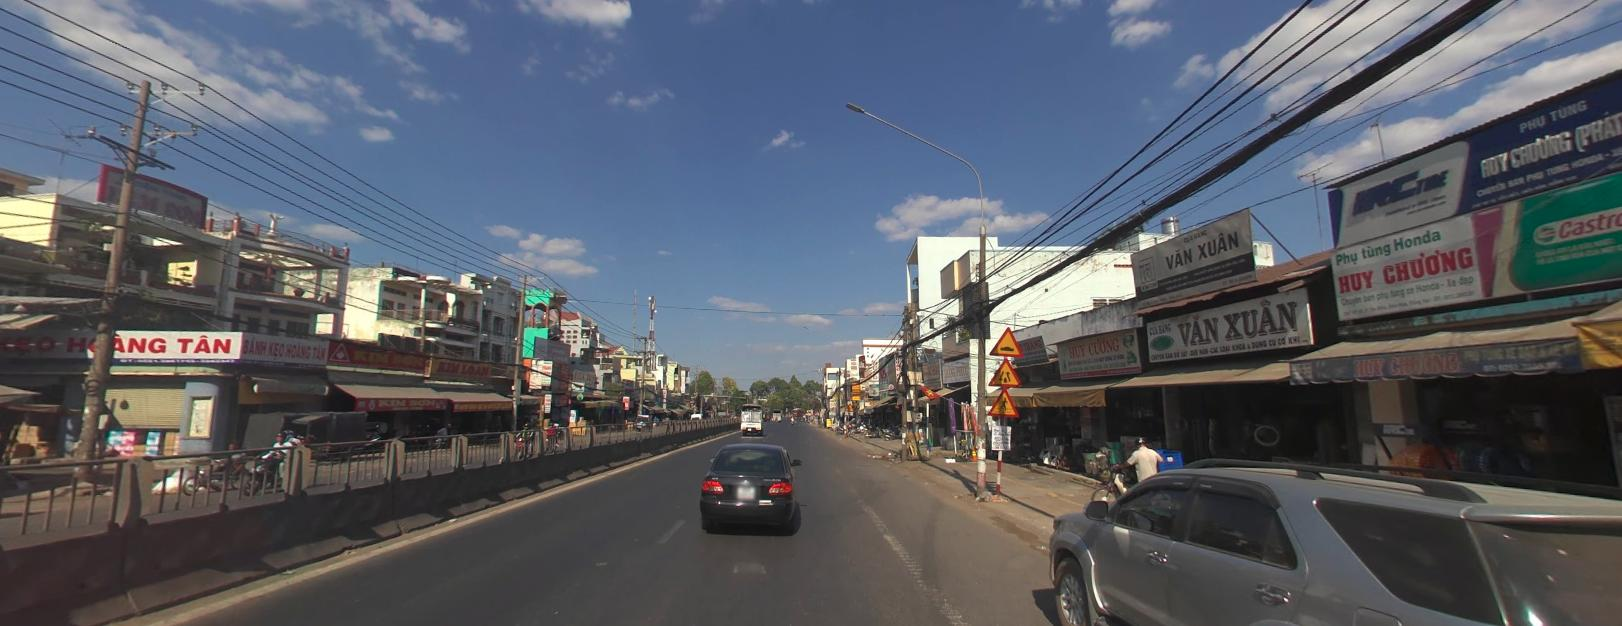Nguy hiem: (988, 324, 1024, 356), (987, 386, 1020, 417), (987, 355, 1021, 385), (845, 402, 854, 410)
